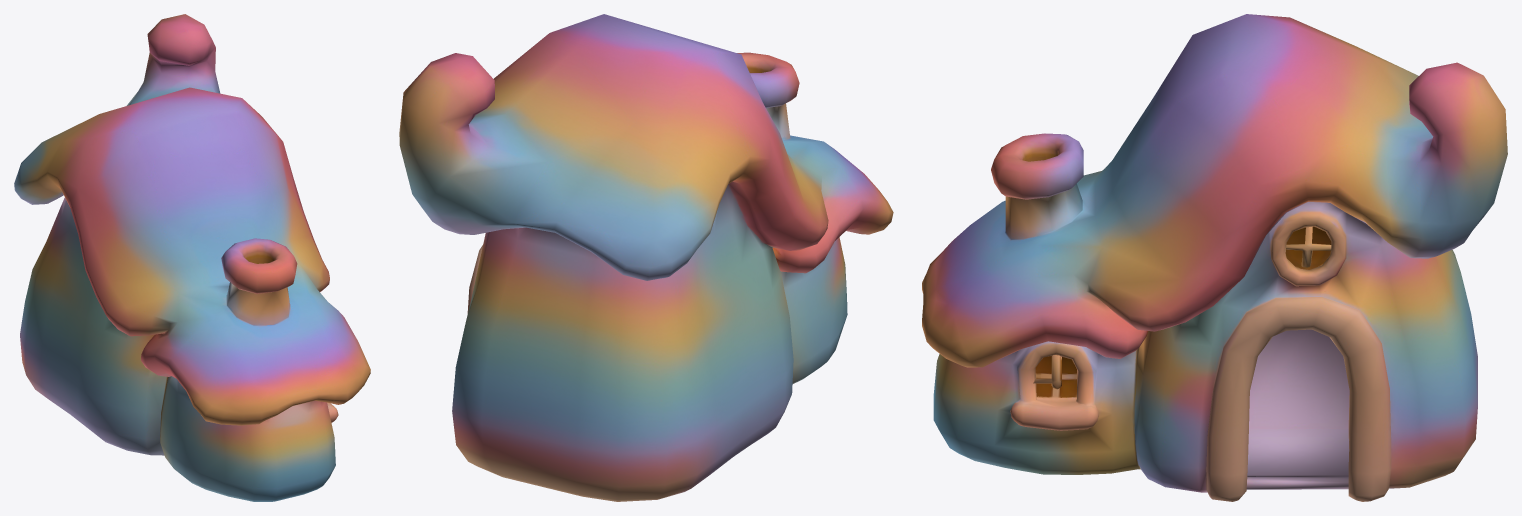
The model's file is 1134dea1-413f-4ae7-9ac9-a9ae32428b28.glb.
3 renders of one model, left to right at view 1: azimuth 30°, elevation 25°; view 2: azimuth 150°, elevation 25°; view 3: azimuth 270°, elevation 25°, orthographic. The views are drawn at different scales.
Visible parts, largest first — view 1: tripo_node_f49aace6-8e45-4dcc-9955-98b3182951db; view 2: tripo_node_f49aace6-8e45-4dcc-9955-98b3182951db; view 3: tripo_node_f49aace6-8e45-4dcc-9955-98b3182951db.
Part boxes in pixels (<box>): tripo_node_f49aace6-8e45-4dcc-9955-98b3182951db: <box>14,14,370,501</box>; tripo_node_f49aace6-8e45-4dcc-9955-98b3182951db: <box>399,14,893,501</box>; tripo_node_f49aace6-8e45-4dcc-9955-98b3182951db: <box>922,14,1507,501</box>.
Bounding box in the file's own units: 0.5616 × 0.7926 × 1.
Materials: 1 (1 with a texture image).
